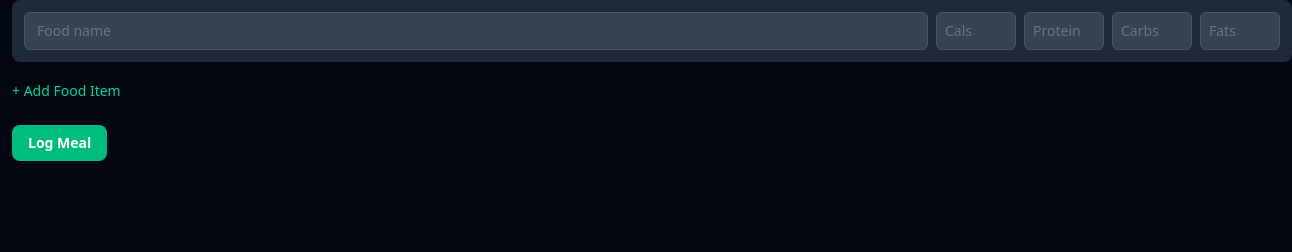
Test: MealForm › removing food items › removes food item row when delete is clicked
This screenshot has width=1292, height=252.
First add another row
Click the button "+ Add Food Item" at (66, 91), box [12,81,121,101]
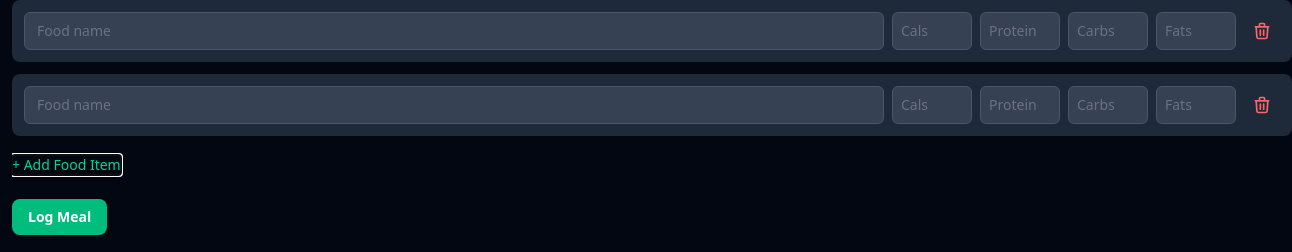
Now the number of fields with placeholder "Food name" is 2, box [24,12,884,50]; [24,86,884,124]
Click the 1st button at (1262, 31), box [1244,21,1280,41]
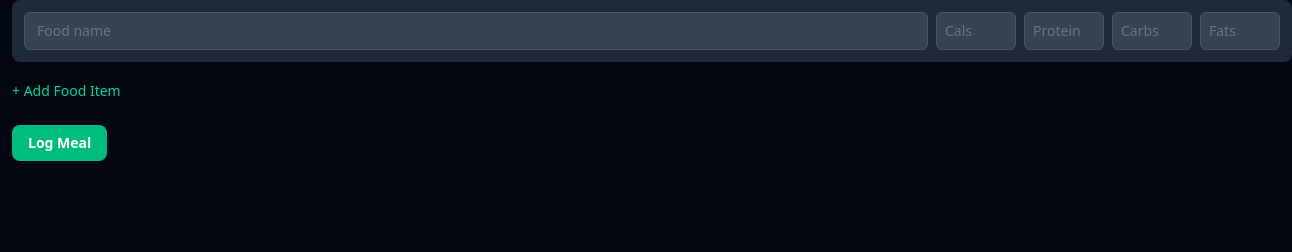
Now the number of fields with placeholder "Food name" is 1, box [24,12,928,50]
